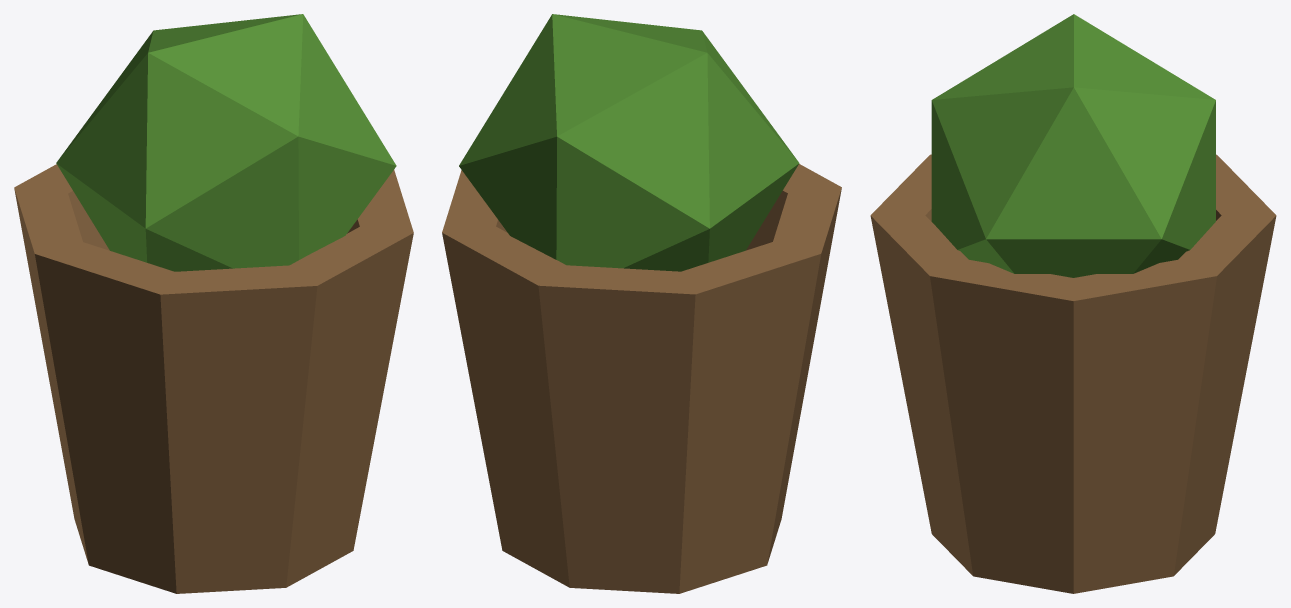
File: Potted Plant 3.fbx
3 renders of one model, left to right at view 1: azimuth 30°, elevation 25°; view 2: azimuth 150°, elevation 25°; view 3: azimuth 270°, elevation 25°, orthographic.
Visible parts, largest first — view 1: Potted Plant 3; view 2: Potted Plant 3; view 3: Potted Plant 3.
Part boxes in pixels (<box>): Potted Plant 3: <box>14,14,413,593</box>; Potted Plant 3: <box>442,14,841,593</box>; Potted Plant 3: <box>870,14,1276,593</box>.
Bounding box in the file's own units: 100 × 133 × 100.
Materials: 1 (1 with a texture image).
